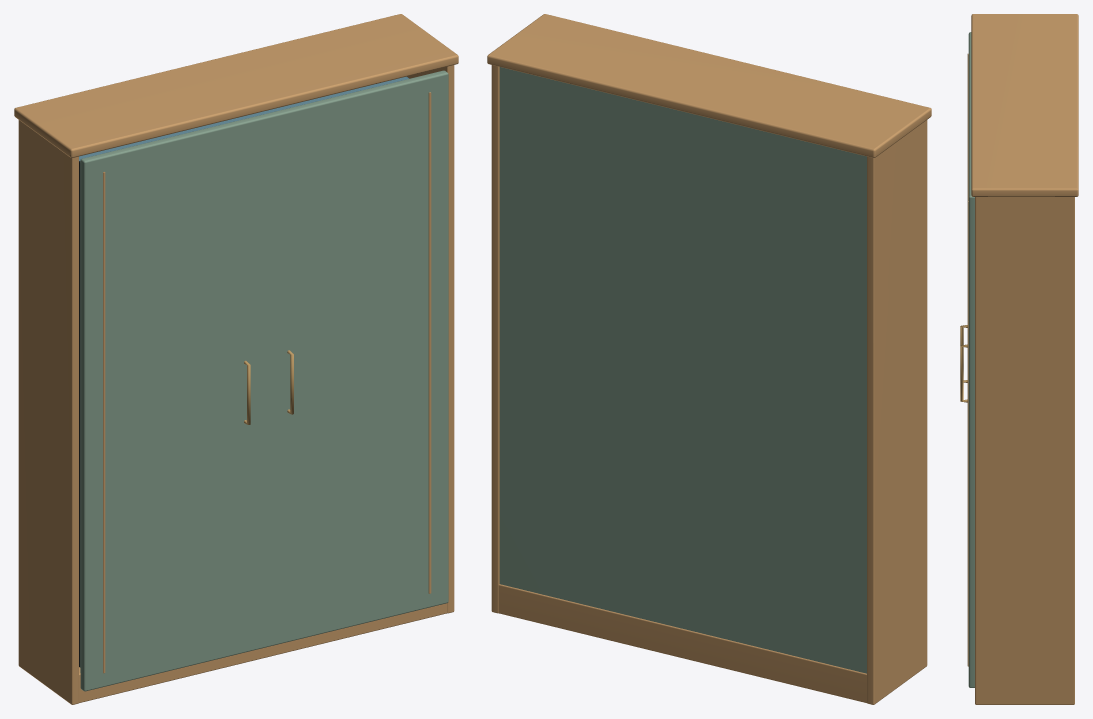
The model's file is wall-bed.glb.
3 views of the same model, side by side, from view 1: azimuth 30°, elevation 25°; view 2: azimuth 150°, elevation 25°; view 3: azimuth 270°, elevation 25° (orthographic). The views are drawn at different scales.
Visible parts, largest first — view 1: catalog_surface_RealismUV, catalog_surface_UVMap; view 2: catalog_surface_RealismUV; view 3: catalog_surface_RealismUV.
Part boxes in pixels (x1=…): catalog_surface_RealismUV: x1=14, y1=14, x2=458, y2=704; catalog_surface_UVMap: x1=79, y1=161, x2=80, y2=667; catalog_surface_RealismUV: x1=487, y1=14, x2=931, y2=704; catalog_surface_RealismUV: x1=960, y1=14, x2=1078, y2=704.
Bounding box in the file's own units: 1.65 × 2.26 × 0.47.
